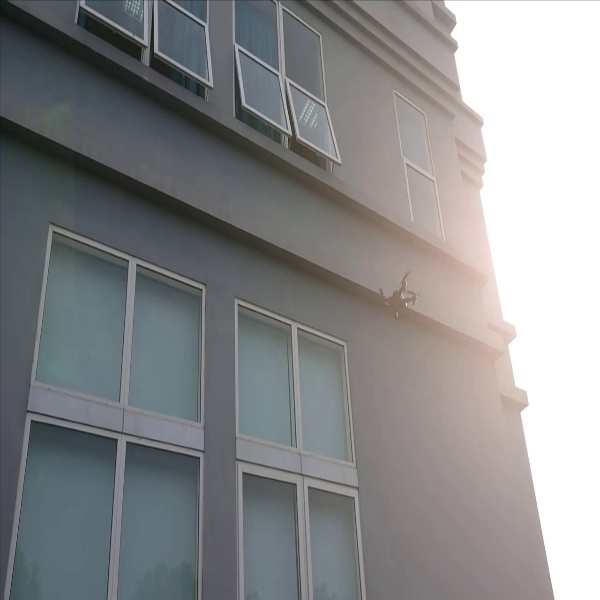drone: (369, 264, 427, 328)
